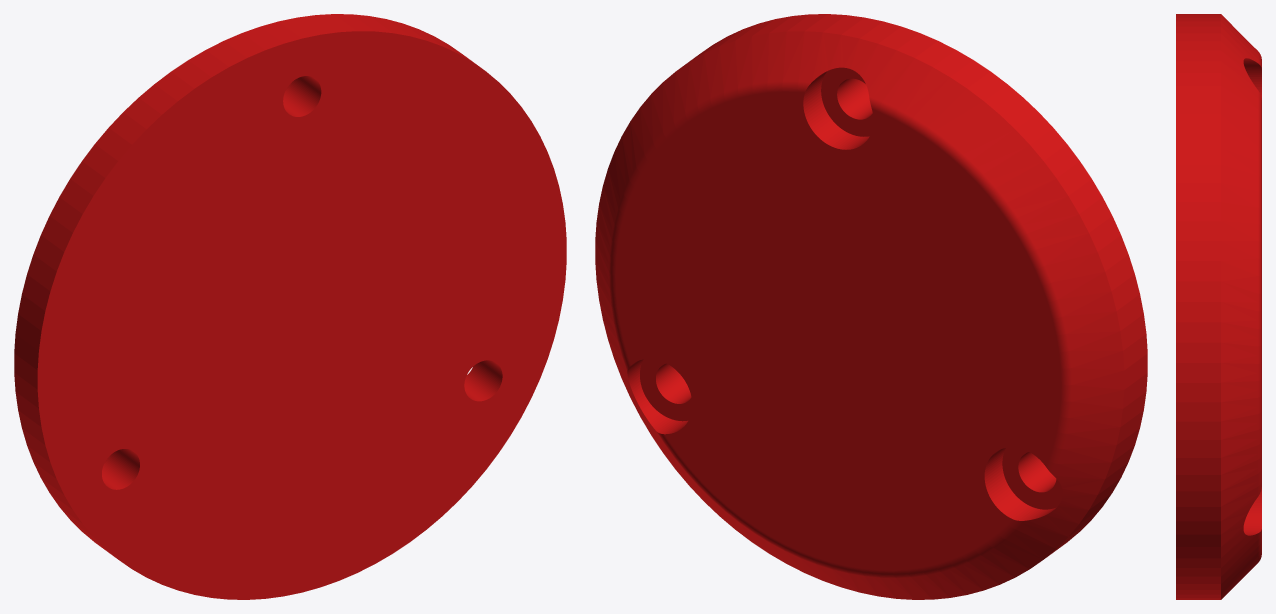
The model's file is Tapa 3M1.dae.
The picture shows the model from 3 angles, left to right: view 1: azimuth 30°, elevation 25°; view 2: azimuth 150°, elevation 25°; view 3: azimuth 270°, elevation 25°; orthographic projection. The views are drawn at different scales.
Visible parts, largest first — view 1: Tapa_3M1_001; view 2: Tapa_3M1_001; view 3: Tapa_3M1_001.
Part boxes in pixels (x1,y1,x2,y2): Tapa_3M1_001: (14, 14, 566, 599); Tapa_3M1_001: (595, 14, 1147, 599); Tapa_3M1_001: (1176, 14, 1261, 599).
Size of the model in its own units: 42.97 by 6.3 by 43.
